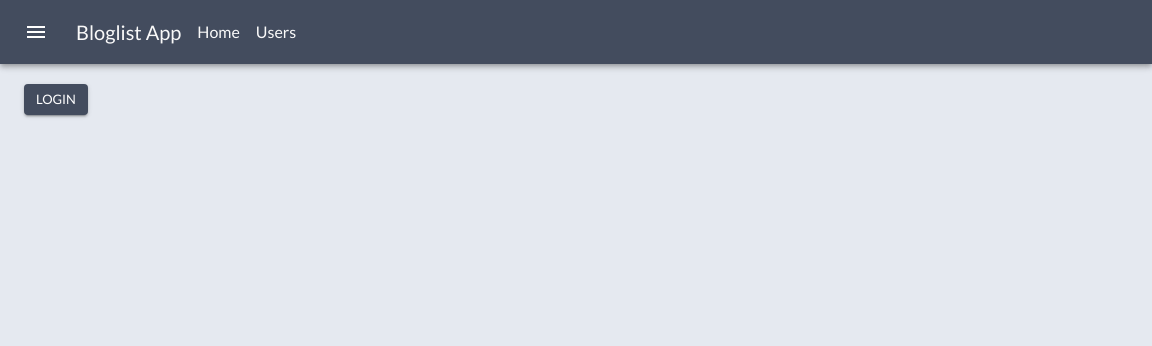
Test: Blog app › login › fails with the incorrect credentials
Click the button "login" at (56, 100), box [24,84,88,115]
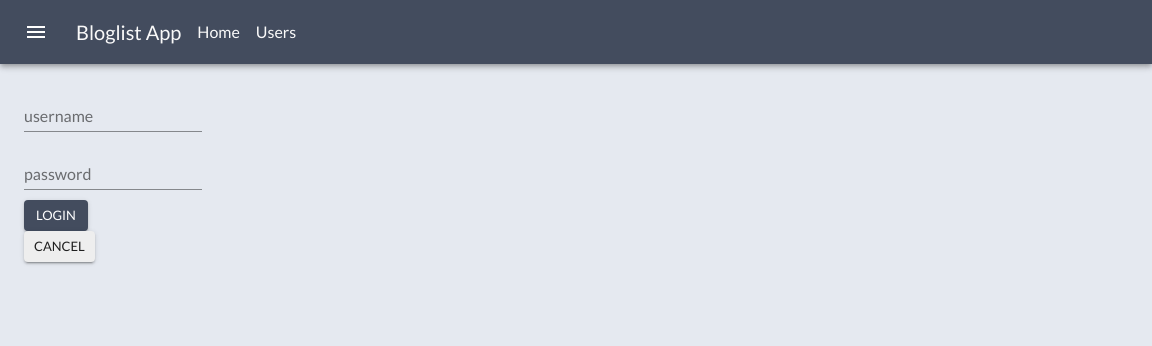
Type "cy1" into the field with id "username" at (113, 116), box [24,100,202,132]
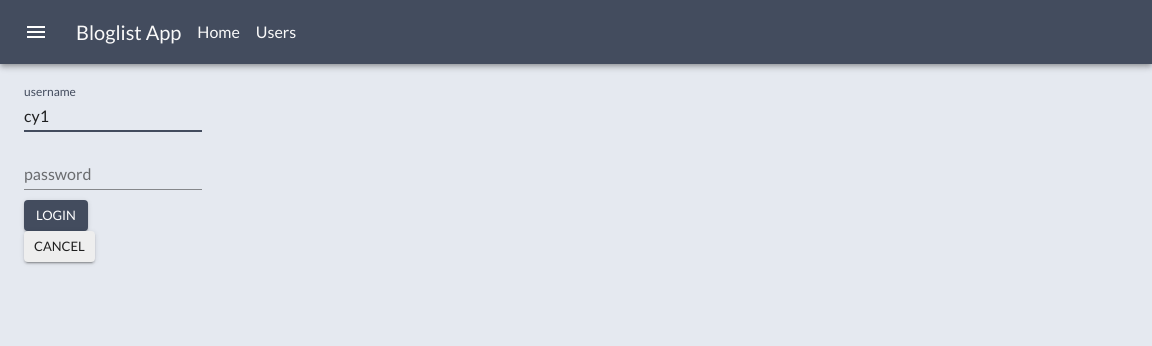
Type "wrong" into the password field labelled "password" at (113, 174), box [24,158,202,190]
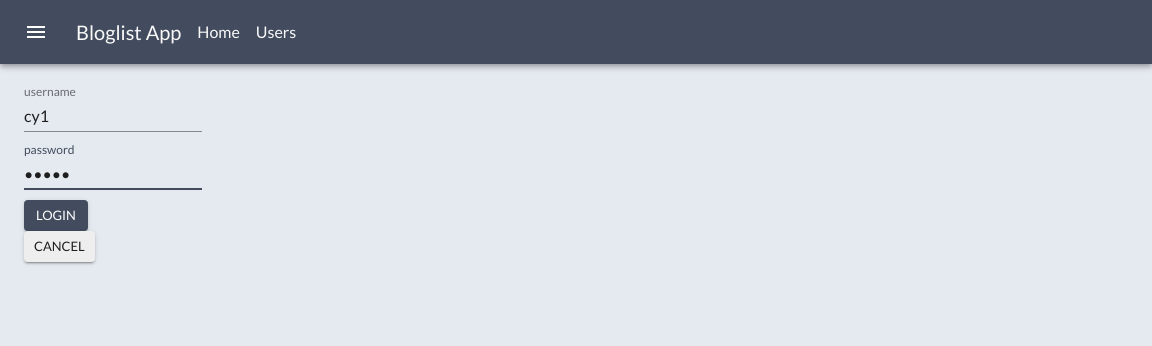
Click the button with id "submitBtn" at (56, 216), box [24,200,88,231]
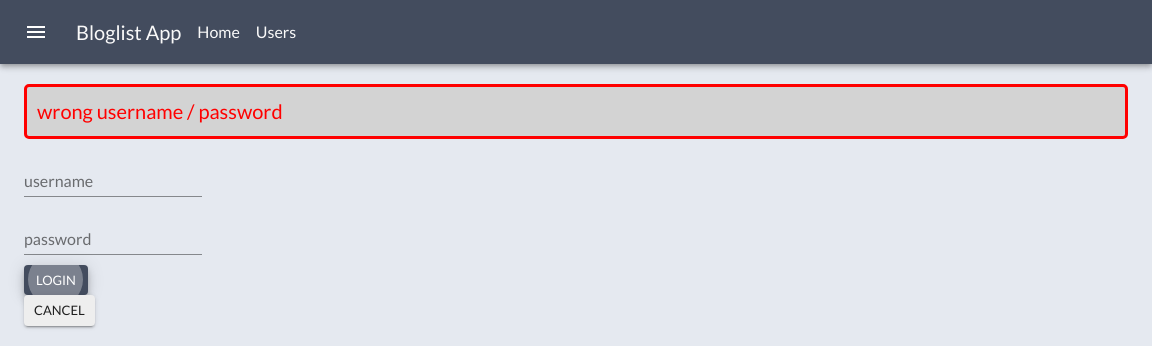
expect the text with class "error" reads "wrong username / password": met, box [37,99,283,123]
